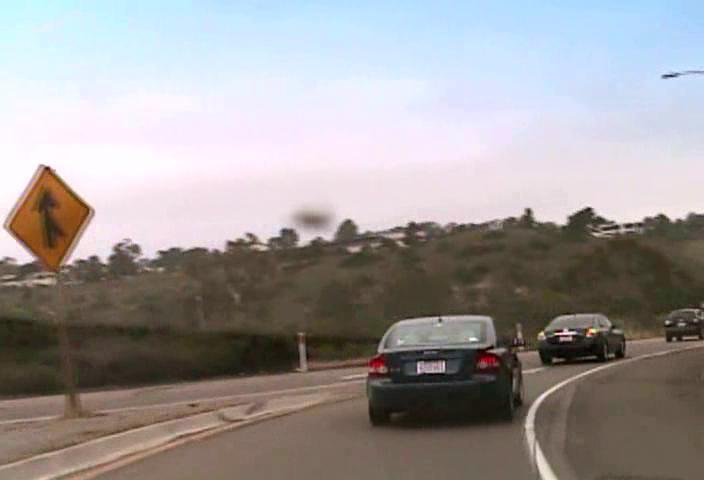merge: (4, 164, 95, 271)
